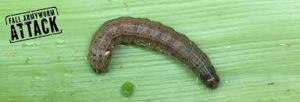fallarmy_worm: (86, 15, 228, 90)
